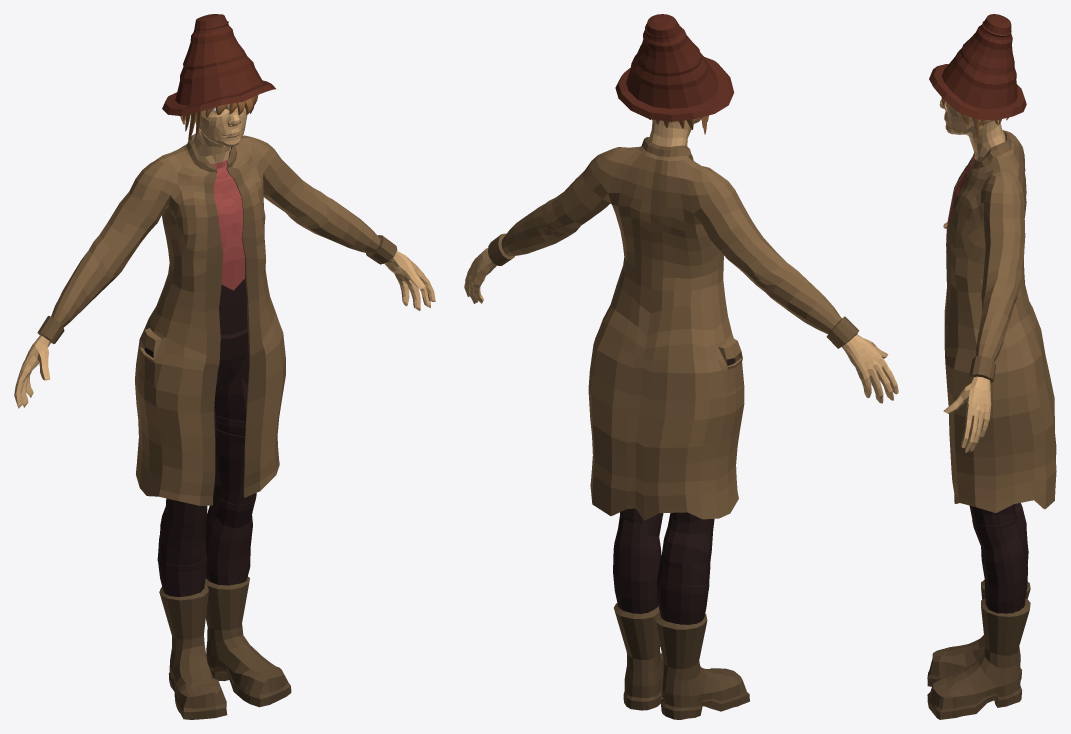
File: TraderFriend.fbx
3 renders of one model, left to right at view 1: azimuth 30°, elevation 25°; view 2: azimuth 150°, elevation 25°; view 3: azimuth 270°, elevation 25°, orthographic. The views are drawn at different scales.
Parts seen in each view (by area): view 1: coat, jean, MaleBody.002, Circle, shirt, MaleBody, NurbsPath.001; view 2: coat, jean, MaleBody.002, Circle, MaleBody; view 3: coat, MaleBody.002, Circle, jean, MaleBody, shirt, NurbsPath.001.
Boxes of the visible parts, bbox=[...] form: coat: bbox=[37, 134, 397, 505]; jean: bbox=[157, 365, 256, 596]; MaleBody.002: bbox=[159, 576, 291, 719]; Circle: bbox=[162, 14, 275, 115]; shirt: bbox=[144, 159, 249, 384]; MaleBody: bbox=[14, 104, 435, 408]; NurbsPath.001: bbox=[180, 95, 258, 141]; coat: bbox=[488, 137, 859, 520]; jean: bbox=[613, 508, 714, 624]; MaleBody.002: bbox=[614, 603, 749, 719]; Circle: bbox=[615, 14, 734, 121]; MaleBody: bbox=[464, 117, 898, 403]; coat: bbox=[944, 130, 1056, 512]; MaleBody.002: bbox=[927, 580, 1030, 719]; Circle: bbox=[929, 14, 1026, 120]; jean: bbox=[969, 503, 1028, 613]; MaleBody: bbox=[939, 100, 1005, 452]; shirt: bbox=[946, 156, 976, 295]; NurbsPath.001: bbox=[941, 97, 1008, 138].
Size of the model in its own units: 544 by 835 by 144.
